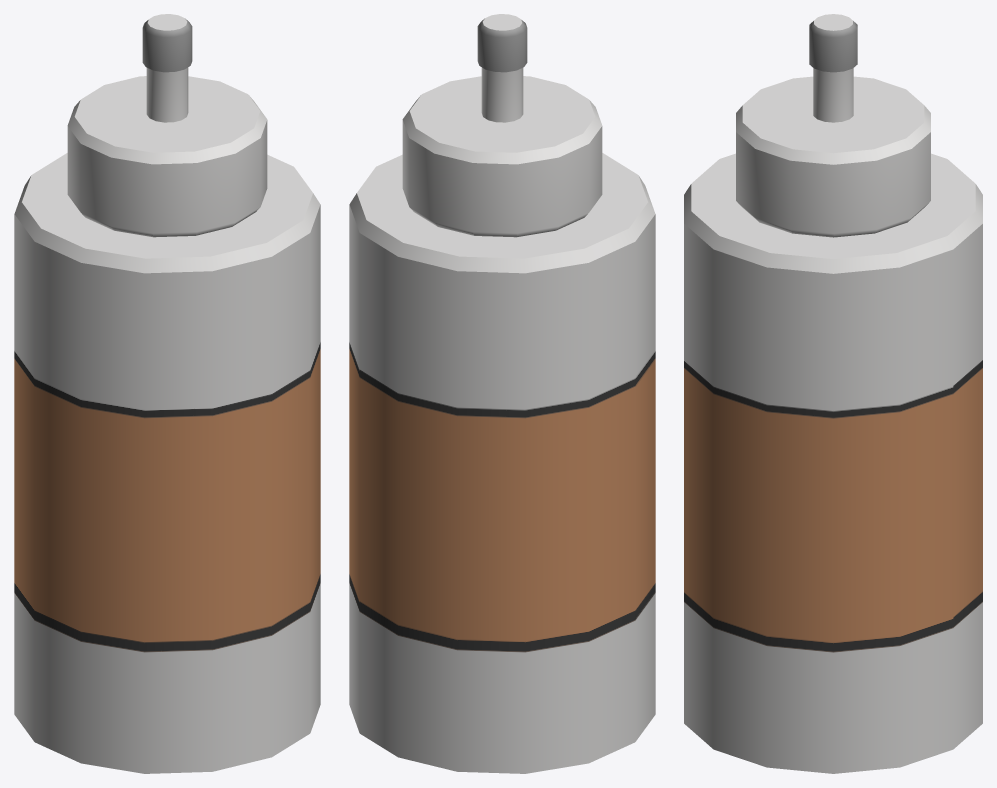
File: Sauce_bottle_white.fbx
3 views of the same model, side by side, from view 1: azimuth 30°, elevation 25°; view 2: azimuth 150°, elevation 25°; view 3: azimuth 270°, elevation 25° (orthographic).
Visible parts, largest first — view 1: pCylinder1; view 2: pCylinder1; view 3: pCylinder1.
Part boxes in pixels (bbox=[...]): pCylinder1: bbox=[14, 14, 320, 773]; pCylinder1: bbox=[349, 14, 655, 773]; pCylinder1: bbox=[684, 14, 982, 773].
Bounding box in the file's own units: 16.78 × 41.49 × 16.36.
